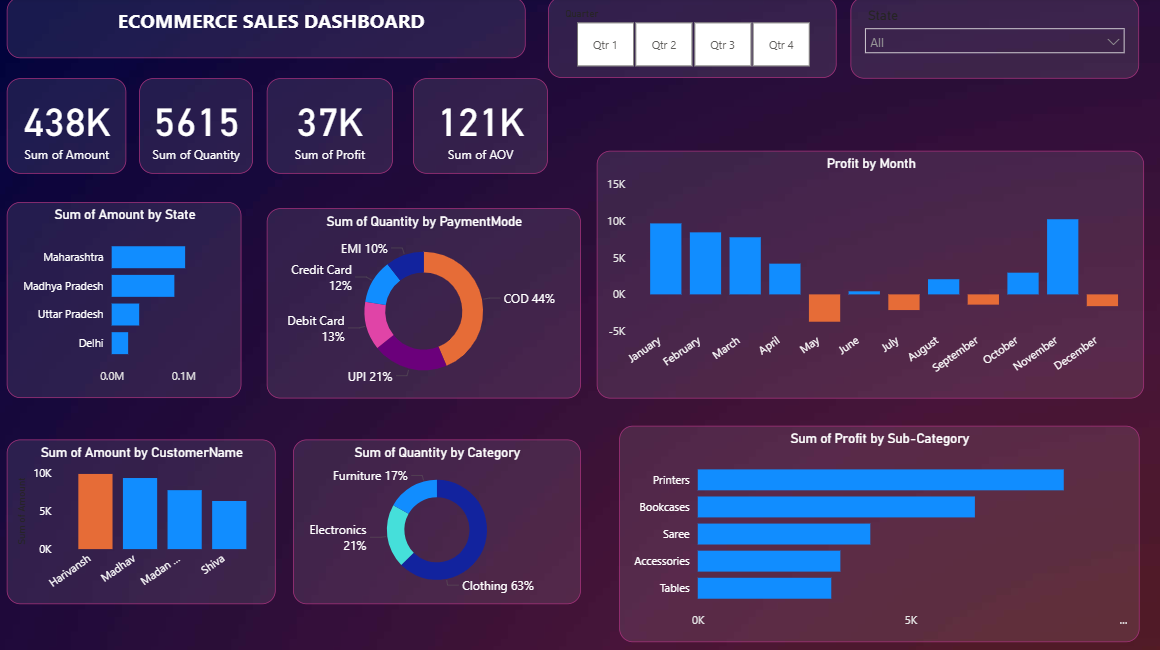

The page's visual inventory and layout, read from the dashboard file:
{"tool":"powerbi","page":{"name":"Page 1","canvas":[1280,720],"ordinal":0},"visuals":[{"type":"textbox","box":[10.1,0,569.9,67.4],"z":0},{"type":"columnChart","title":"Profit by Month","fields":{"Category":["Orders (1).Order Date.Variation.Date Hierarchy.Month"],"Y":["Sum(Details.Profit)"]},"box":[657.3,168.8,601,271.7],"z":1000},{"type":"barChart","fields":{"Category":["Details.Sub-Category"],"Y":["Sum(Details.Profit)"]},"box":[682,470.7,570.8,237.4],"z":2000},{"type":"donutChart","fields":{"Category":["Details.Category"],"Y":["Sum(Details.Quantity)"]},"box":[323.8,485.8,315.6,181.1],"z":3000},{"type":"donutChart","fields":{"Category":["Details.PaymentMode"],"Y":["Sum(Details.Quantity)"]},"box":[295,231.9,344.4,208.6],"z":4000},{"type":"card","fields":{"Values":["Sum(Details.Amount)"]},"box":[10.1,89.4,131.5,104.5],"z":5000},{"type":"card","fields":{"Values":["Sum(Details.Quantity)"]},"box":[155.1,89.4,124.8,104.5],"z":6000},{"type":"card","fields":{"Values":["Sum(Details.Profit)"]},"box":[295.1,89.4,138.3,104.5],"z":7000},{"type":"card","fields":{"Values":["Sum(Details.AOV)"]},"box":[455.2,89.4,148.4,104.5],"z":8000},{"type":"barChart","fields":{"Category":["Orders (1).State"],"Y":["Sum(Details.Amount)"]},"box":[9.6,225,258,215.4],"z":9000},{"type":"columnChart","fields":{"Category":["Orders (1).CustomerName"],"Y":["Sum(Details.Amount)"]},"box":[9.6,485.8,295,181.1],"z":10000},{"type":"slicer","fields":{"Values":["Orders (1).Order Date.Variation.Date Hierarchy.Quarter"]},"box":[603.8,0,317,89.2],"z":11000},{"type":"slicer","fields":{"Values":["Orders (1).State"]},"box":[935.7,0,317,89.4],"z":12000}]}

Visuals, with their boxes in screenshot pixels (x1, y1, x2, y2), scaled from the page's 1280x720 canvas onto the 1160x650 screenshot:
textbox: 9:0:526:61
"Profit by Month" columnChart: 596:152:1140:398
barChart - Details.Sub-Category x Sum(Details.Profit): 618:425:1135:639
donutChart - Details.Category x Sum(Details.Quantity): 293:439:579:602
donutChart - Details.PaymentMode x Sum(Details.Quantity): 267:209:579:398
card - Sum(Details.Amount): 9:81:128:175
card - Sum(Details.Quantity): 141:81:254:175
card - Sum(Details.Profit): 267:81:393:175
card - Sum(Details.AOV): 413:81:547:175
barChart - Orders (1).State x Sum(Details.Amount): 9:203:243:398
columnChart - Orders (1).CustomerName x Sum(Details.Amount): 9:439:276:602
slicer - Orders (1).Order Date.Variation.Date Hierarchy.Quarter: 547:0:834:81
slicer - Orders (1).State: 848:0:1135:81
